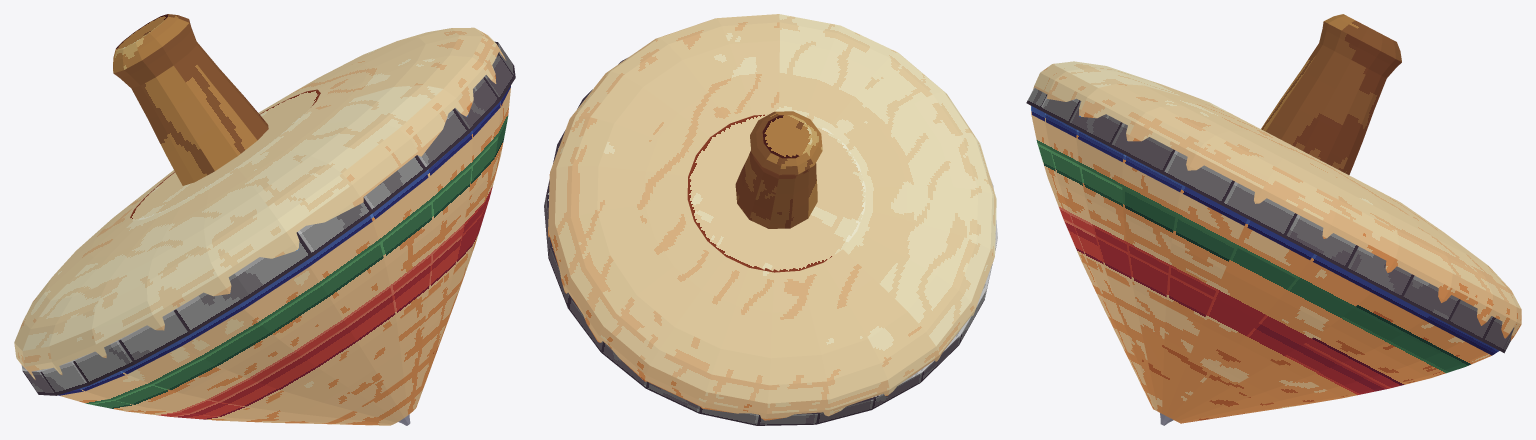
Rendered from koma.glb.
The picture shows the model from 3 angles, left to right: view 1: azimuth 30°, elevation 25°; view 2: azimuth 150°, elevation 25°; view 3: azimuth 270°, elevation 25°; orthographic projection. The views are drawn at different scales.
Parts seen in each view (by area): view 1: body, stem, iron; view 2: body, stem, iron; view 3: body, iron, stem.
Part boxes in pixels (bbox=[...]): body: bbox=[14, 27, 510, 425]; stem: bbox=[113, 14, 268, 185]; iron: bbox=[21, 41, 515, 395]; body: bbox=[548, 14, 996, 420]; stem: bbox=[735, 111, 822, 228]; iron: bbox=[544, 58, 997, 425]; body: bbox=[1031, 61, 1521, 423]; iron: bbox=[1026, 88, 1514, 353]; stem: bbox=[1261, 14, 1401, 174].
Bounding box in the file's own units: 26.25 × 19.45 × 25.44.
1 material, 1 textured.
